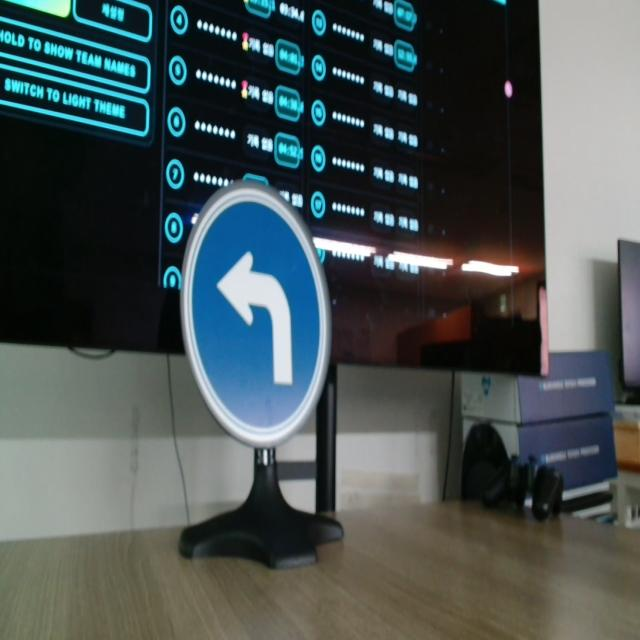left_direction: (170, 168, 343, 454)
